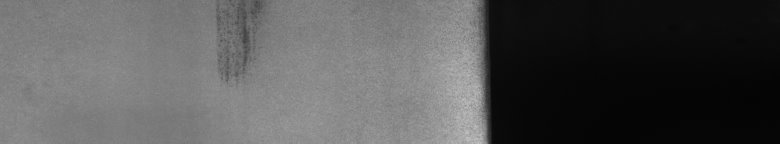ka: (213, 4, 261, 82)
